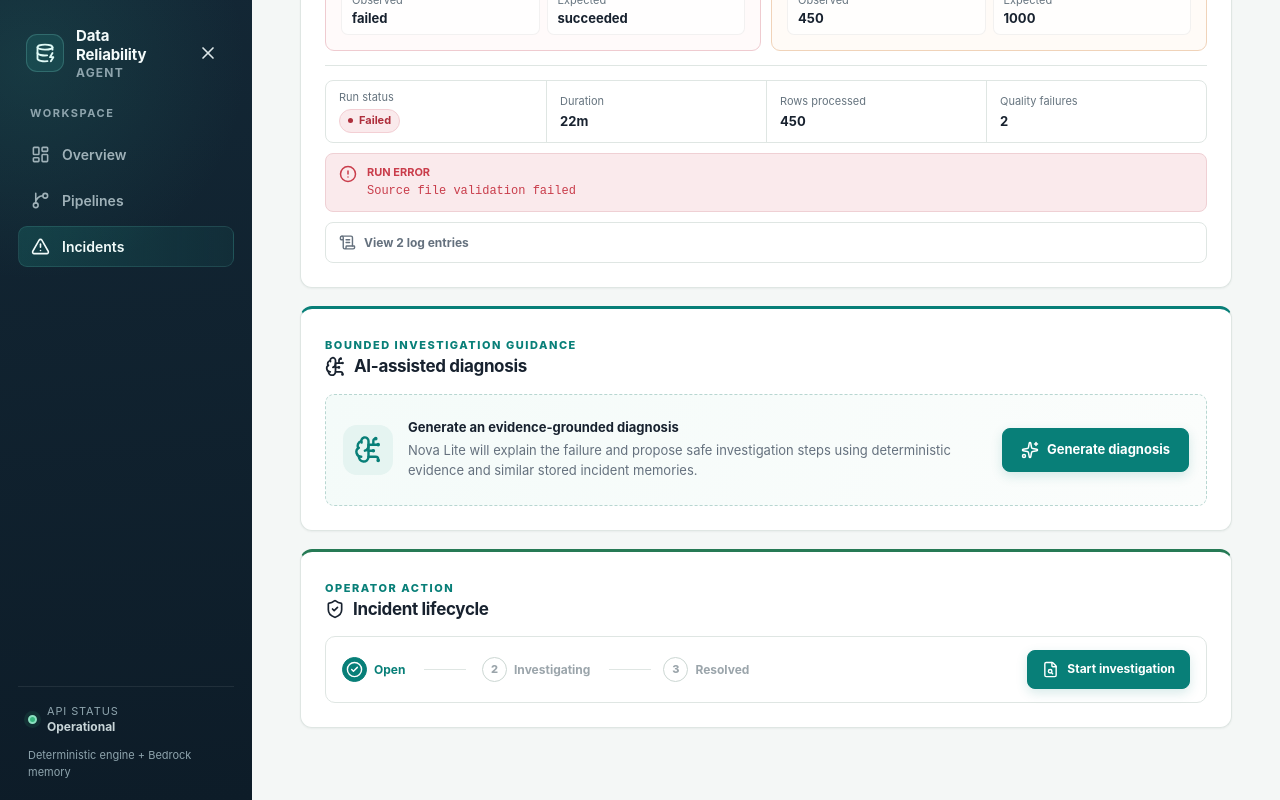
Test case: incident-to-diagnosis workflow › loads evidence, generates a diagnosis, and advances status
(page scrolled)
Check: the text "Source file validation failed" is shown, box [367,182,576,200]
Click the button "Generate diagnosis": point(1095, 450) [1002,428,1189,472]
(page scrolled)
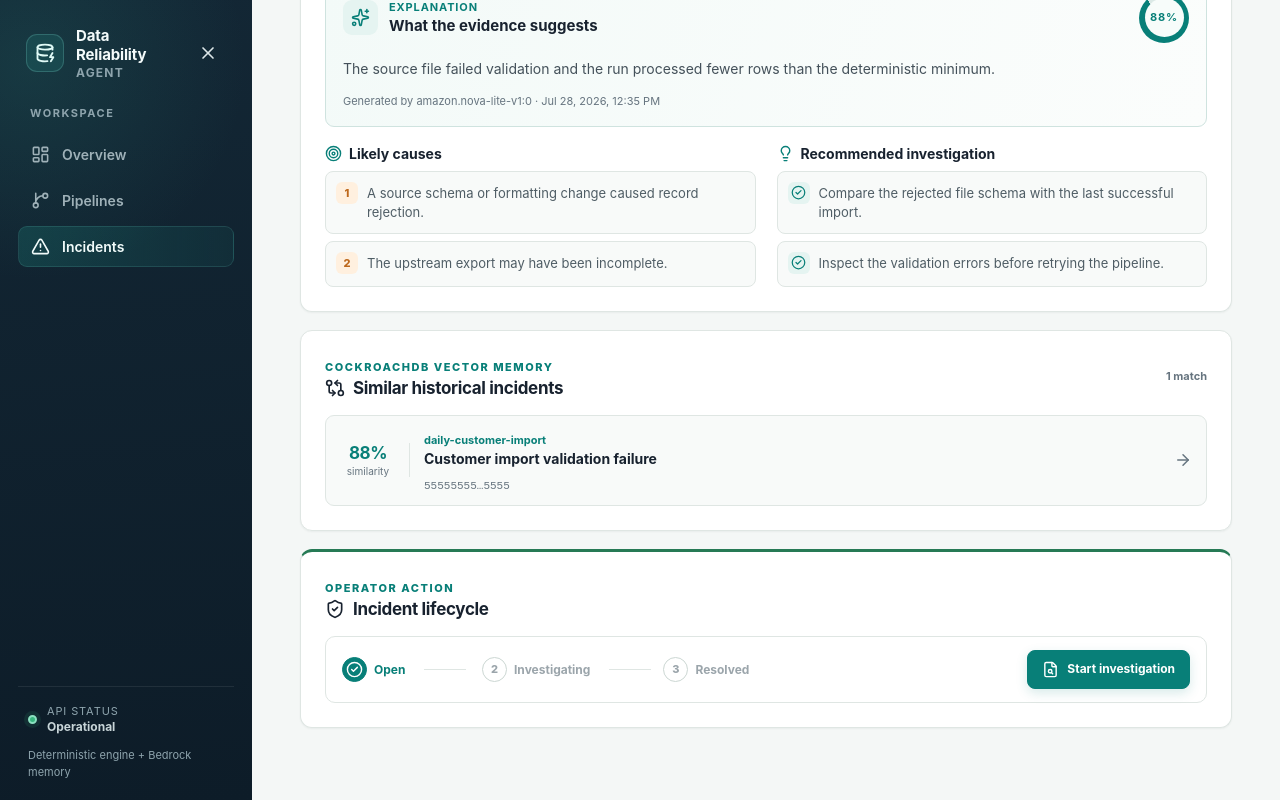
Check: the text "The source file failed validation and the run processed fewer rows than the deterministic minimum." is shown, box [343,60,995,77]
Check: the heading "Customer import validation failure" is shown, box [424,450,657,467]
Click the button "Start investigation": point(1109, 669) [1027,650,1190,689]
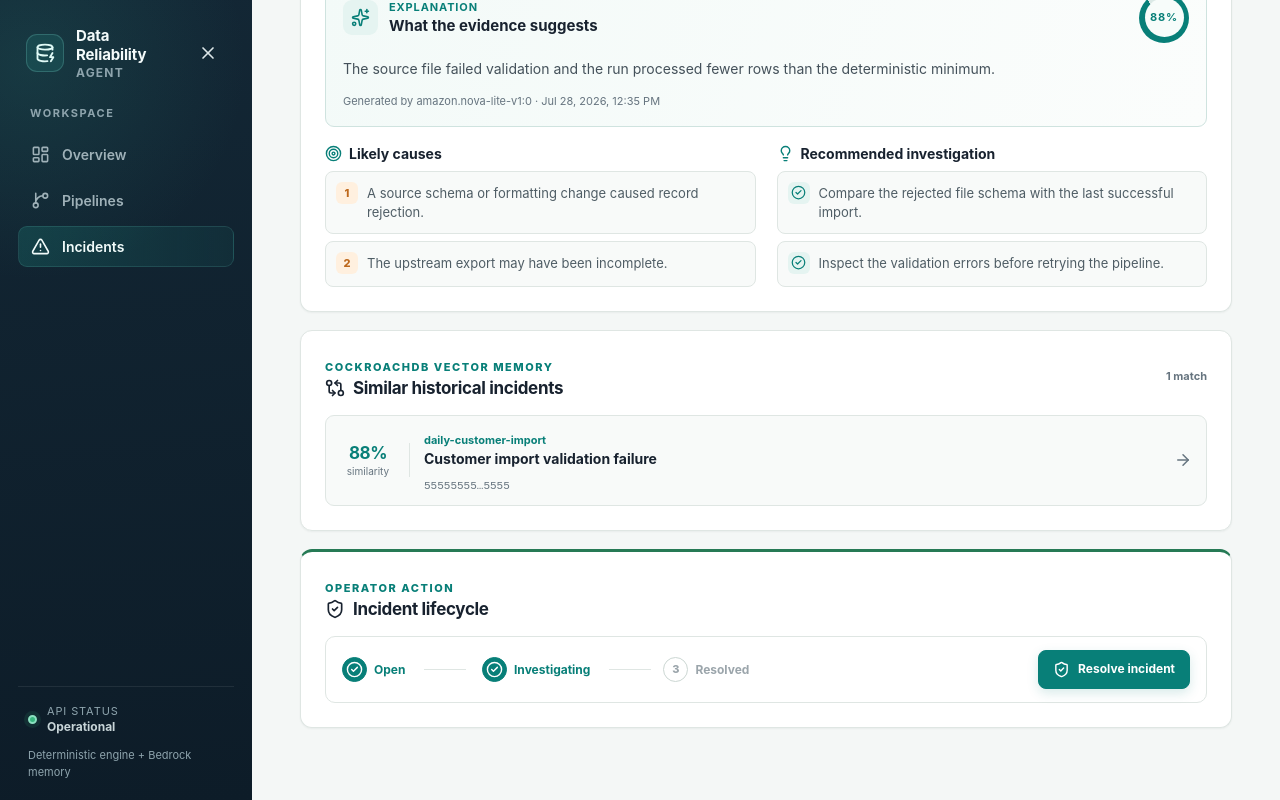
Check: the button "Resolve incident" is shown, box [1038,650,1190,689]
